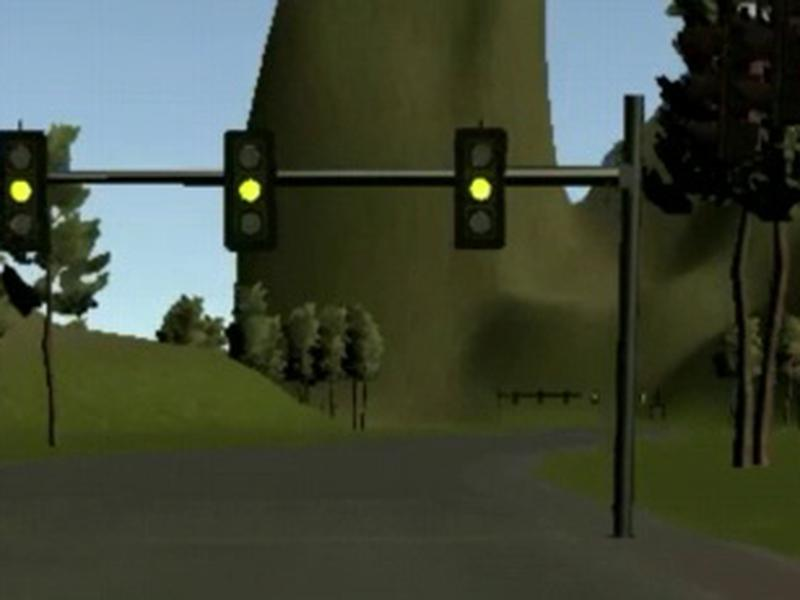Yellow: (222, 129, 277, 254), (454, 126, 507, 251), (1, 128, 49, 251)
